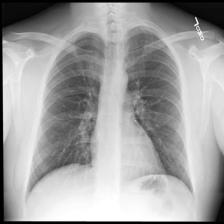normal: (23, 23, 198, 208)
